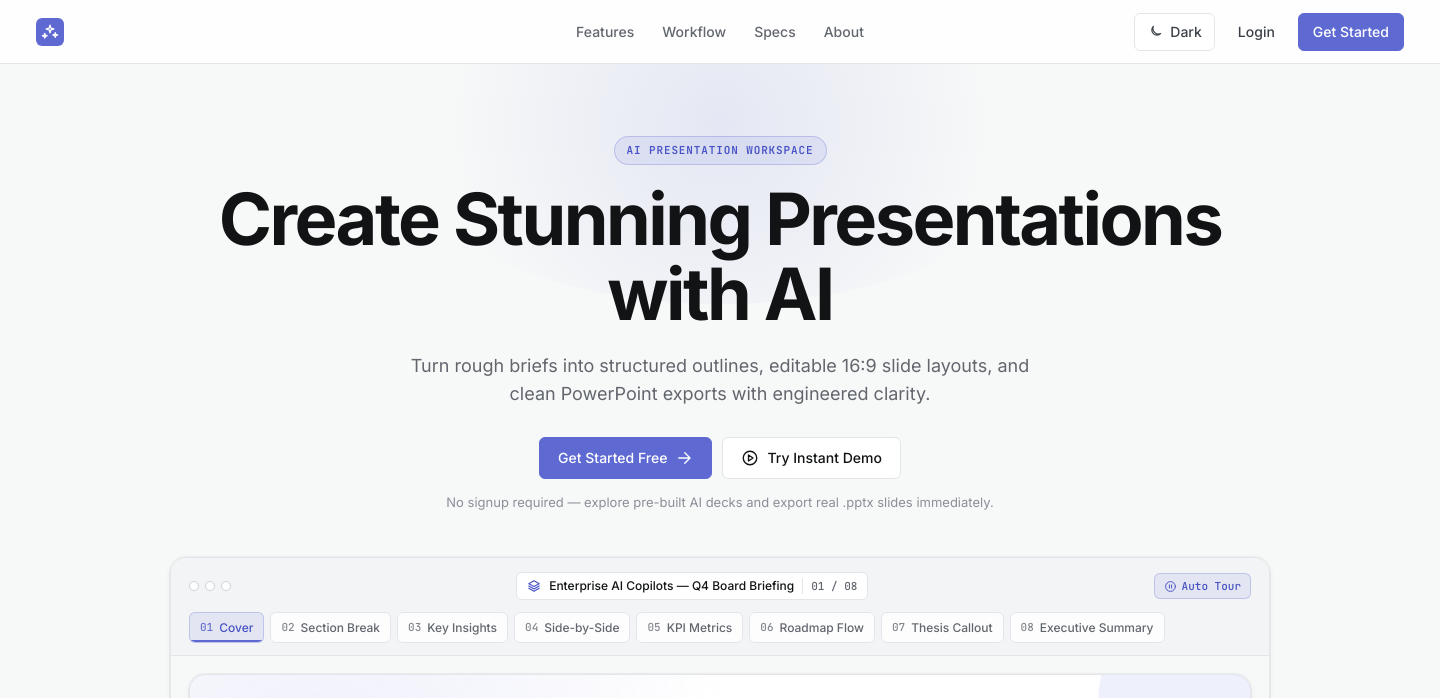
Test case: Task 3: Frontend AuthContext, Hybrid Browser Demo Fallback & Client PPTX Export › reaches /dashboard in under 5s via Browser Demo fallback when /api/auth/demo hangs
Click the button "Try Instant Demo": (812, 458) [722, 437, 901, 479]
Wait 4000 ms
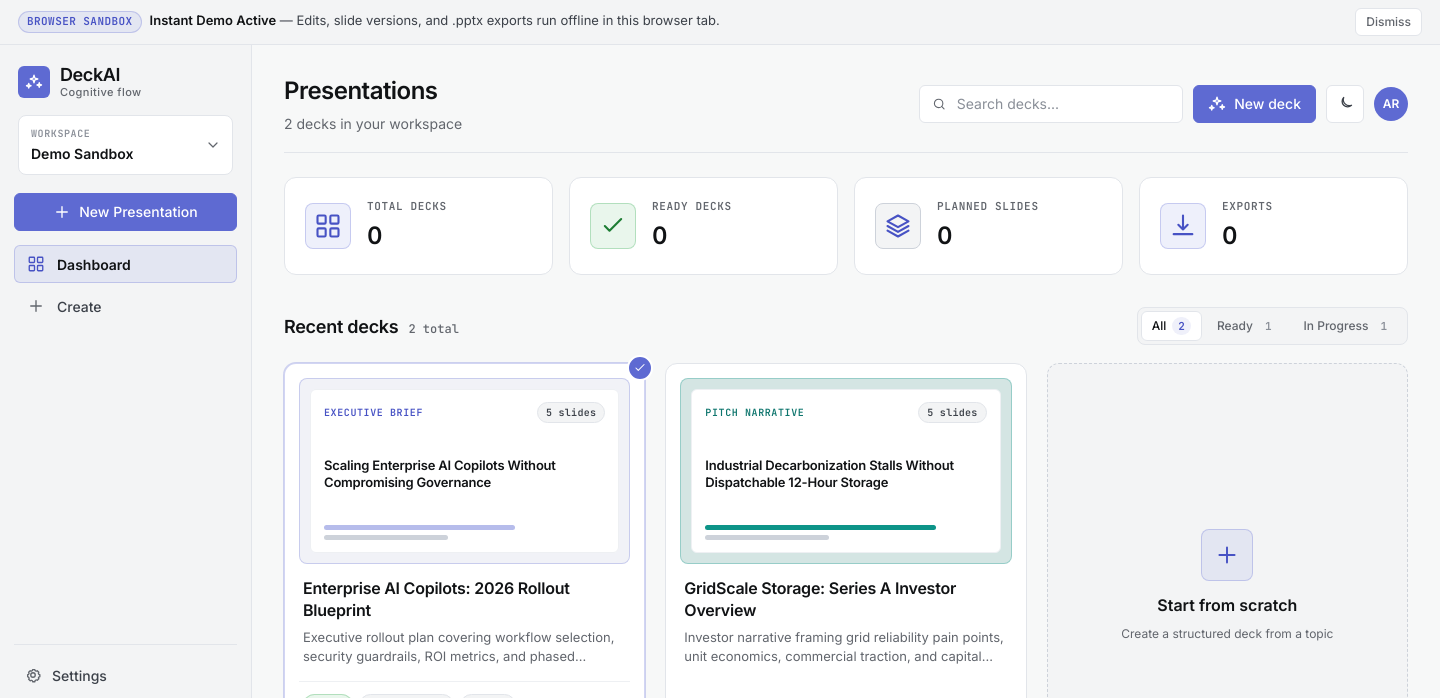
Expected: the heading "Presentations" is shown, [284, 73, 462, 109]
Result: the heading "Enterprise AI Copilots: 2026 Rollout Blueprint" is shown at [303, 578, 570, 620]
